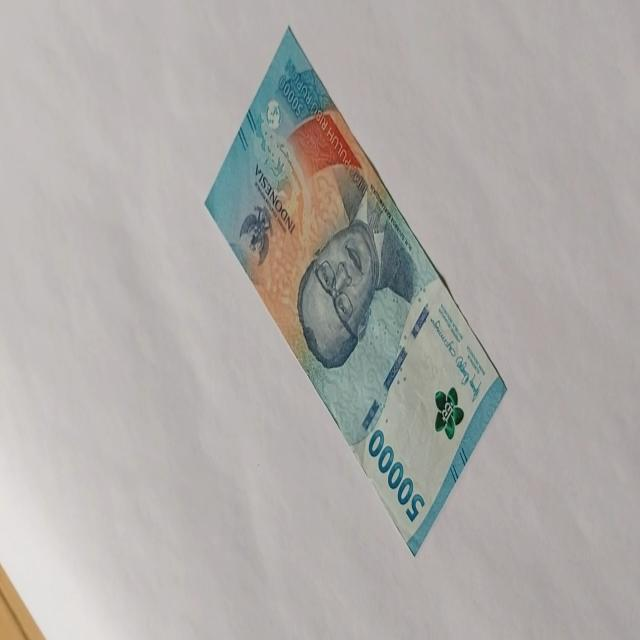lima puluh ribu rupiah: (204, 23, 508, 557), (366, 426, 426, 524)
